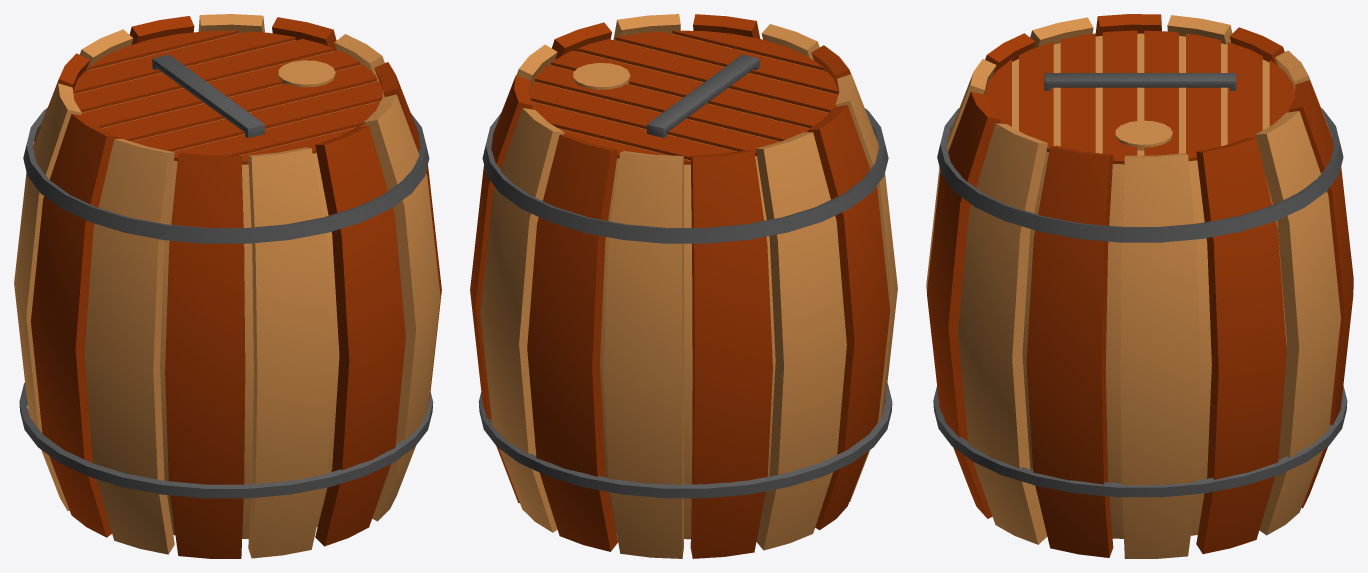
File: BarrelColored.fbx
3 renders of one model, left to right at view 1: azimuth 30°, elevation 25°; view 2: azimuth 150°, elevation 25°; view 3: azimuth 270°, elevation 25°, orthographic.
Visible parts, largest first — view 1: Cylinder.003; view 2: Cylinder.003; view 3: Cylinder.003.
Boxes of the visible parts, x1,y1,x2,y2 form: Cylinder.003: (14, 14, 441, 558); Cylinder.003: (470, 14, 897, 558); Cylinder.003: (926, 14, 1353, 558).
Bounding box in the file's own units: 275 × 285 × 275.
